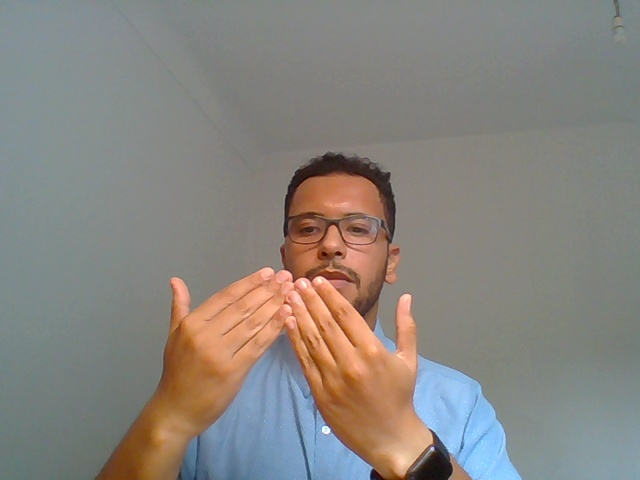thanks: (127, 257, 494, 476)
